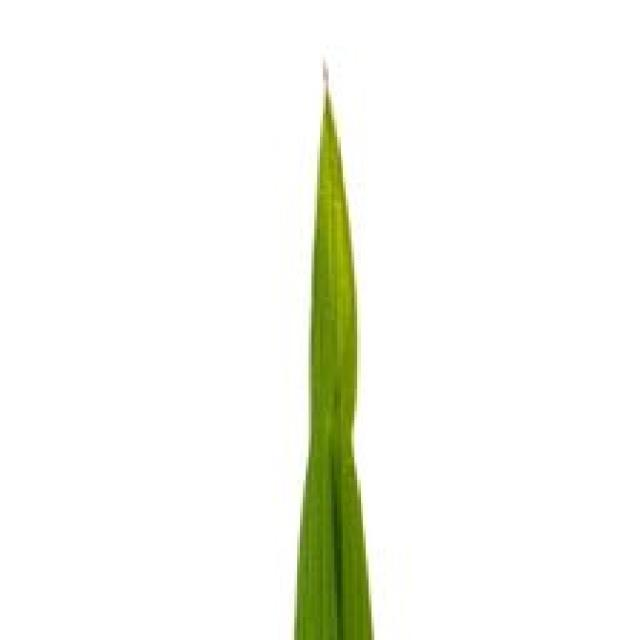Rice___Healthy_Rice_Plant: (294, 55, 376, 637)
